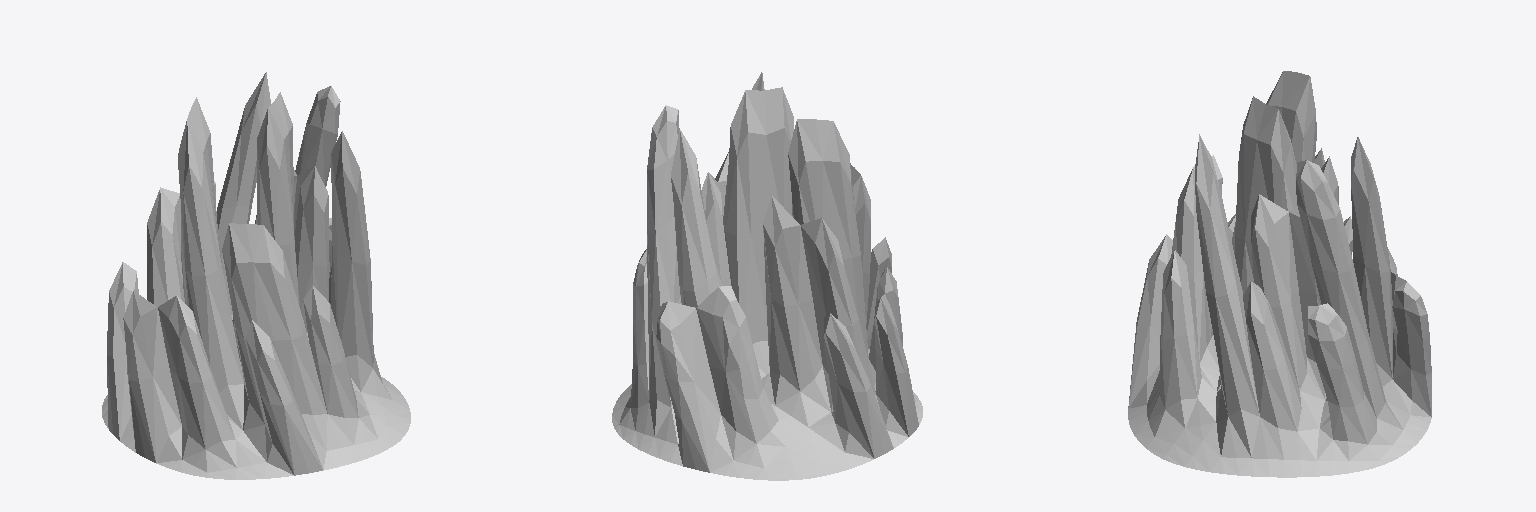
File: angletrap.obj
3 renders of one model, left to right at view 1: azimuth 30°, elevation 25°; view 2: azimuth 150°, elevation 25°; view 3: azimuth 270°, elevation 25°, orthographic.
Visible parts, largest first — view 1: Plane; view 2: Plane; view 3: Plane.
Part boxes in pixels (x1,y1,x2,y2): Plane: (102, 72, 410, 479); Plane: (612, 72, 922, 480); Plane: (1128, 71, 1431, 477).
Size of the model in its own units: 1.84 by 2.12 by 1.84.